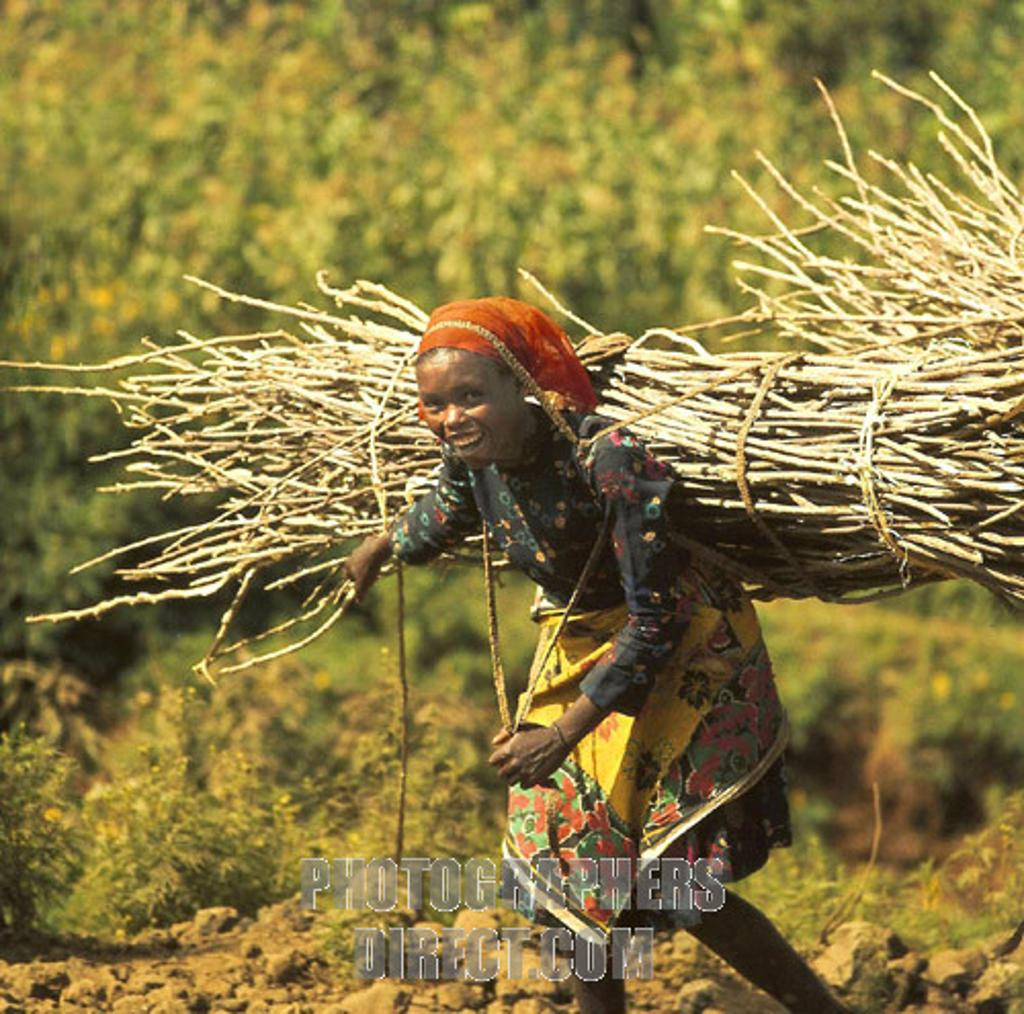face: (424, 356, 498, 464)
